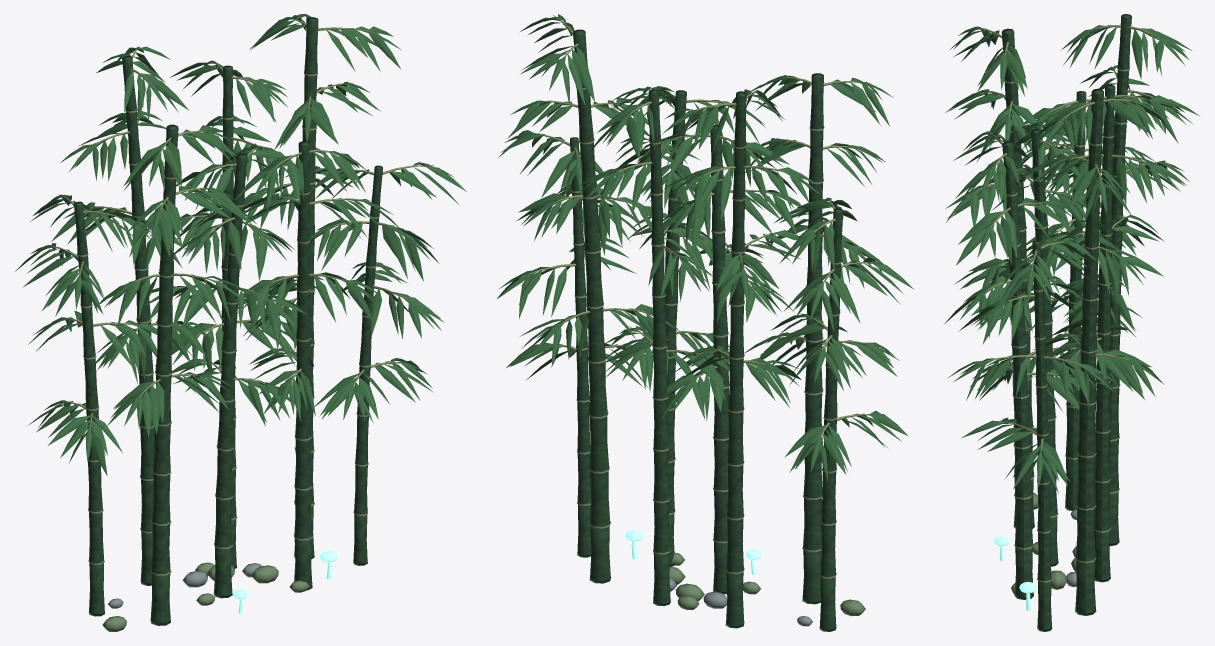
File: nyanisyarud-bamboo-b.glb
3 renders of one model, left to right at view 1: azimuth 30°, elevation 25°; view 2: azimuth 150°, elevation 25°; view 3: azimuth 270°, elevation 25°, orthographic. The views are drawn at different scales.
Visible parts, largest first — view 1: Silken bamboo leaves, Jade bamboo, Branches, Raised bamboo nodes, Moss green, Slate stone; view 2: Silken bamboo leaves, Jade bamboo, Branches, Raised bamboo nodes, Moss green; view 3: Silken bamboo leaves, Jade bamboo, Branches, Raised bamboo nodes, Moss green.
Boxes of the visible parts, x1,y1,x2,y2 form: Silken bamboo leaves: (15,14,466,476); Jade bamboo: (74,17,382,625); Branches: (45,18,434,436); Raised bamboo nodes: (77,72,379,575); Moss green: (102,562,309,631); Slate stone: (108,563,262,608); Silken bamboo leaves: (497,14,914,481); Jade bamboo: (570,29,843,631); Branches: (518,15,876,437); Raised bamboo nodes: (571,86,841,578); Moss green: (669,552,865,616); Silken bamboo leaves: (944,25,1199,493); Jade bamboo: (1001,14,1131,631); Branches: (965,25,1168,452); Raised bamboo nodes: (1004,67,1129,582); Moss green: (1011,493,1076,594).
Bounding box in the file's own units: 5.61 × 7.13 × 3.15.
9 materials, 2 textured.
